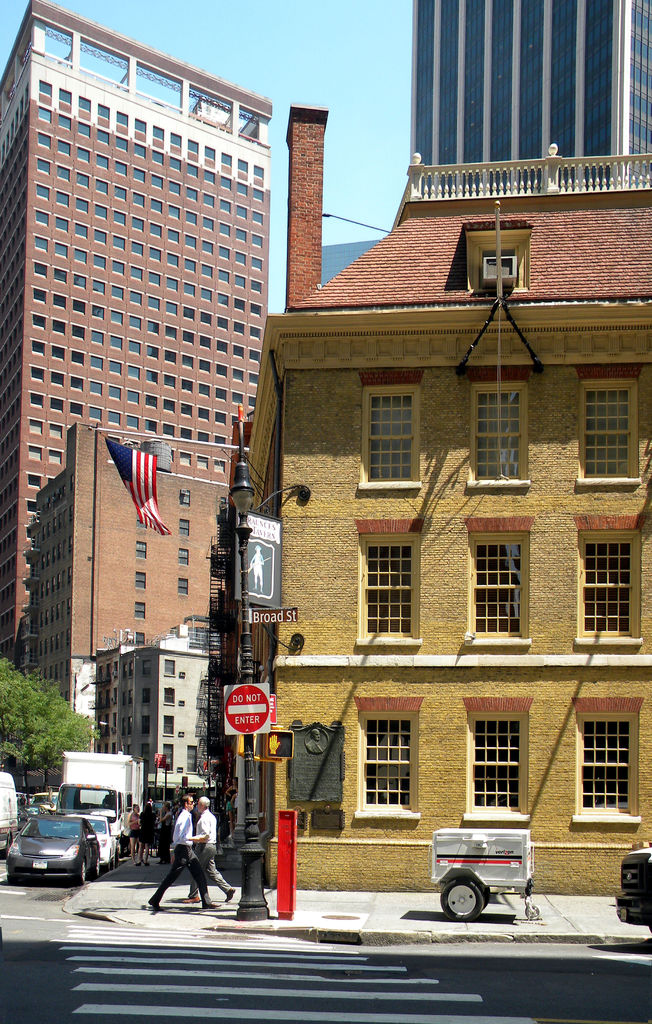Car: (7, 814, 100, 881), (616, 839, 651, 933), (70, 810, 114, 865)
